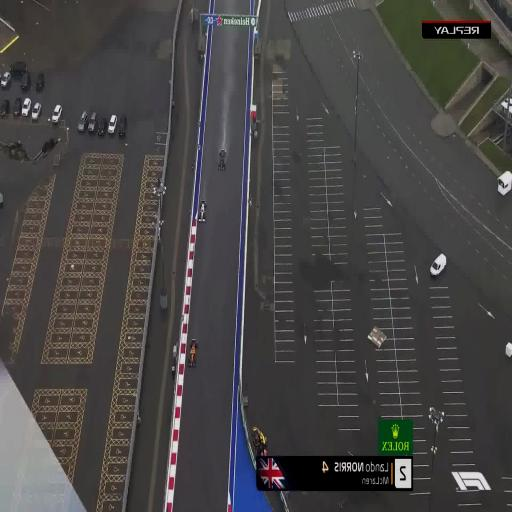f1_car: (212, 144, 230, 182), (252, 425, 267, 456), (188, 339, 198, 366), (198, 200, 206, 221)
